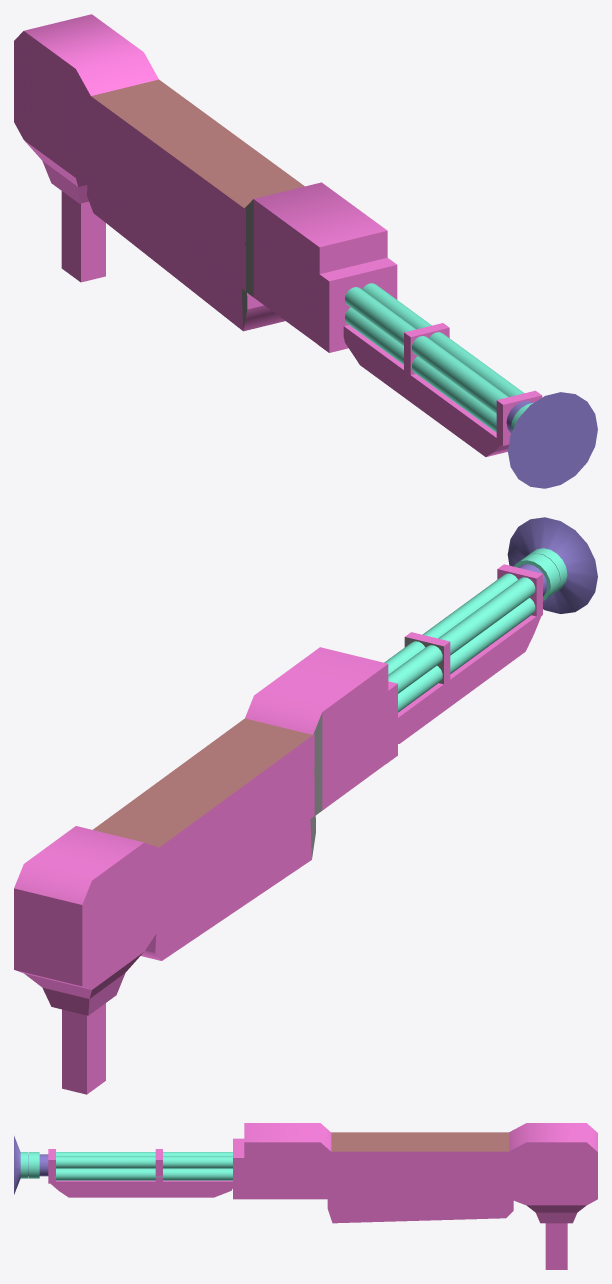
Rendered from FusilaPompe.FBX.
The picture shows the model from 3 angles, top to bottom: view 1: azimuth 30°, elevation 25°; view 2: azimuth 150°, elevation 25°; view 3: azimuth 270°, elevation 25°; orthographic projection. The views are drawn at different scales.
Visible parts, largest first — view 1: Fusil3coup001; view 2: Fusil3coup001; view 3: Fusil3coup001.
Part boxes in pixels (x1,y1,x2,y2): Fusil3coup001: [14, 14, 597, 488]; Fusil3coup001: [14, 517, 597, 1094]; Fusil3coup001: [14, 1123, 597, 1269].
Size of the model in its own units: 157 by 385 by 1524.
